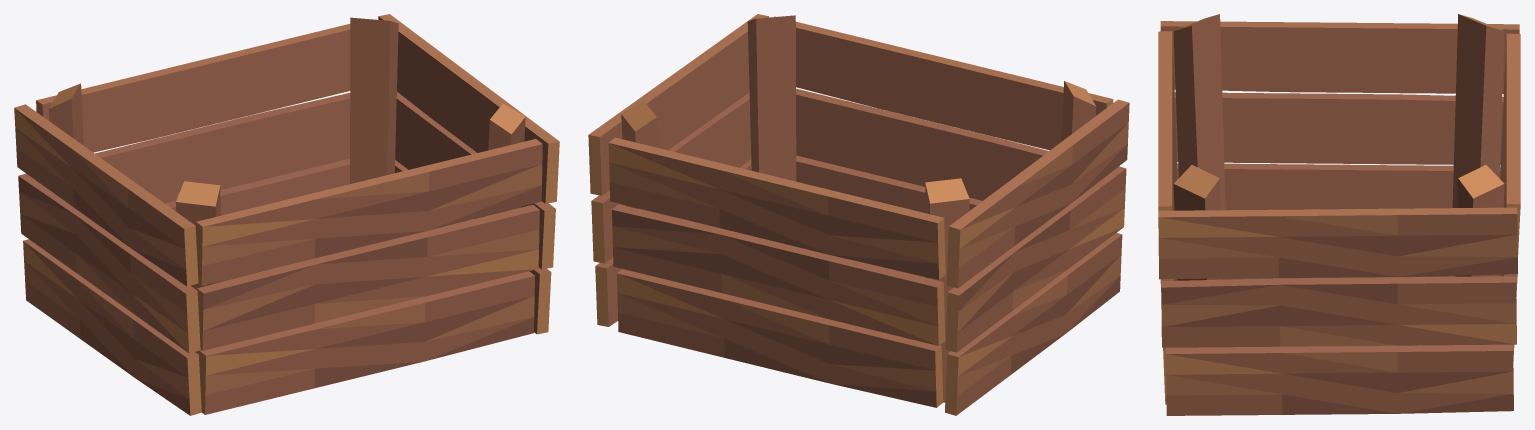
File: crate_wood.fbx
3 views of the same model, side by side, from view 1: azimuth 30°, elevation 25°; view 2: azimuth 150°, elevation 25°; view 3: azimuth 270°, elevation 25° (orthographic). The views are drawn at different scales.
Visible parts, largest first — view 1: crate_wood; view 2: crate_wood; view 3: crate_wood.
Boxes of the visible parts, <box> form: crate_wood: <box>14,14,559,415</box>; crate_wood: <box>588,14,1129,415</box>; crate_wood: <box>1158,14,1520,415</box>.
Bounding box in the file's own units: 52.3 × 29.08 × 41.51.
